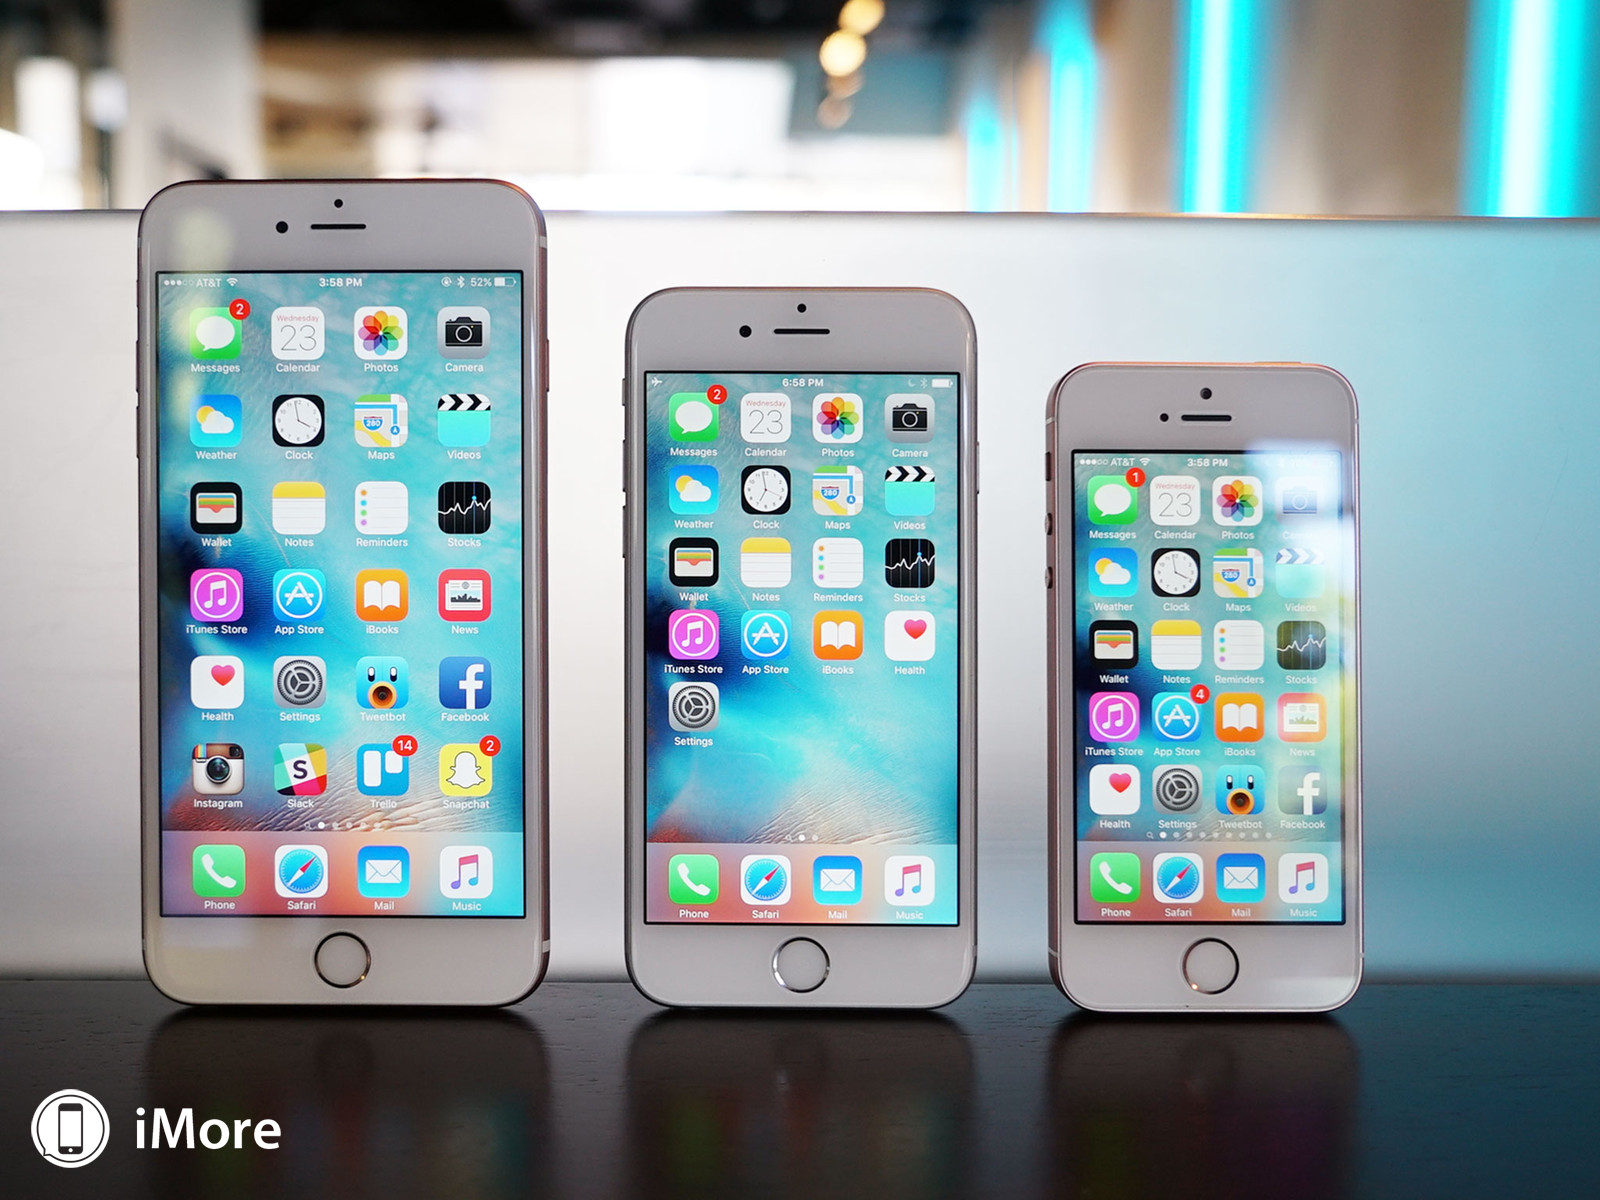smartphone: (134, 176, 552, 1008), (620, 285, 980, 1011), (1044, 361, 1363, 1015)
